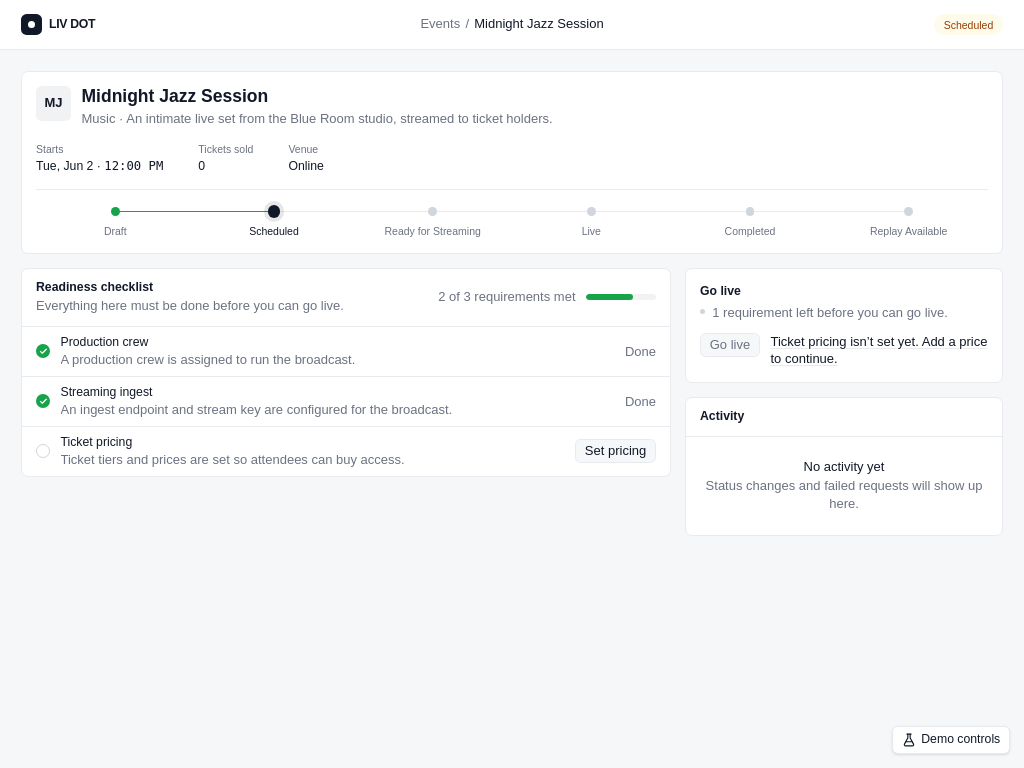
Test: EventDashboard › surfaces a forced failure with a retry that recovers
The width and height of the screenshot is (1024, 768).
Expected: the heading "Midnight Jazz Session" is shown, [82,86,268,106]
Click the button "Demo controls" at (951, 740), box [892,726,1010,754]
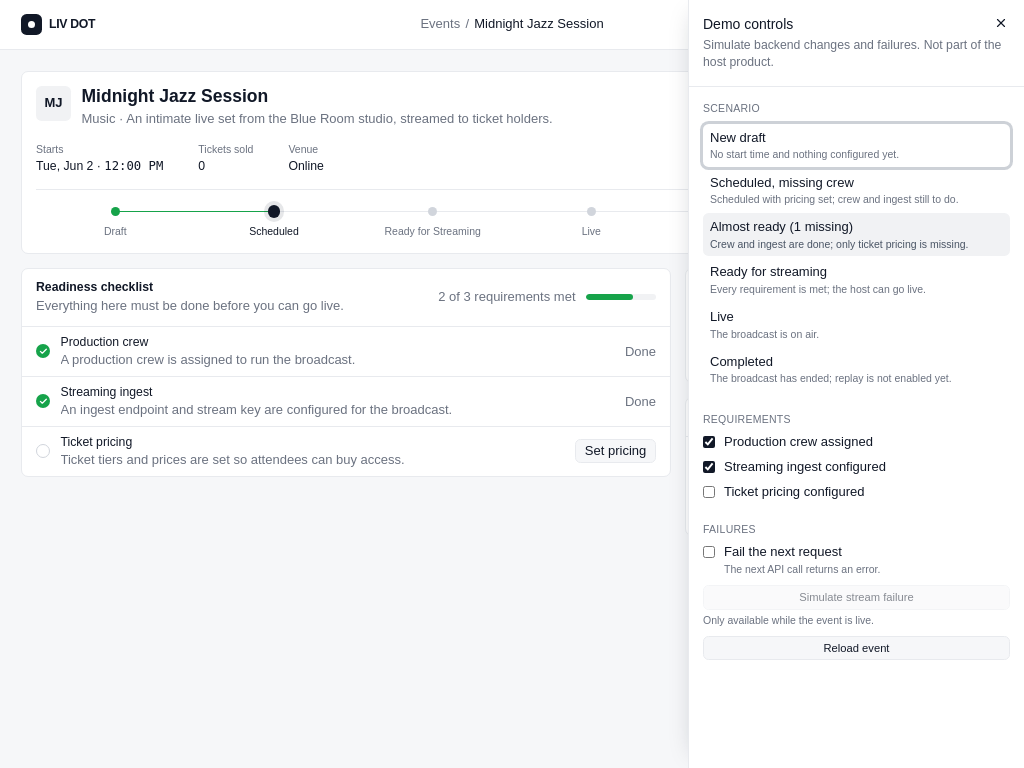
Click the switch labelled "Fail the next request The next API call returns an error." at (709, 552), box [703,546,715,558]
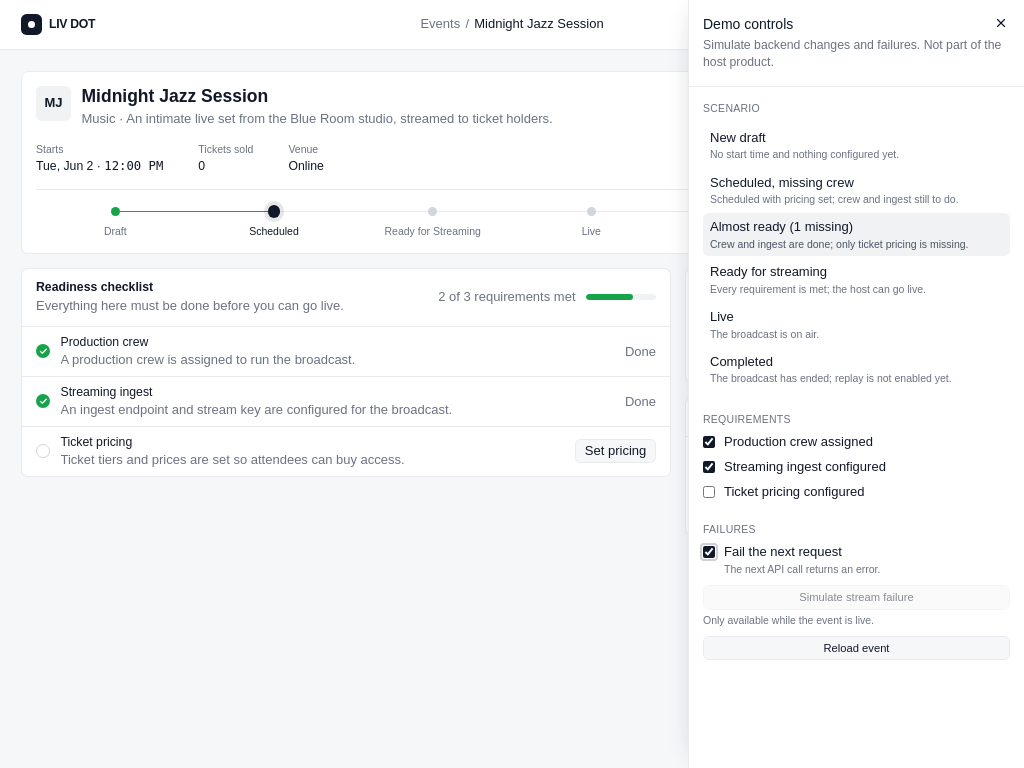
Click the button "Set pricing" at (616, 451), box [575,439,656,463]
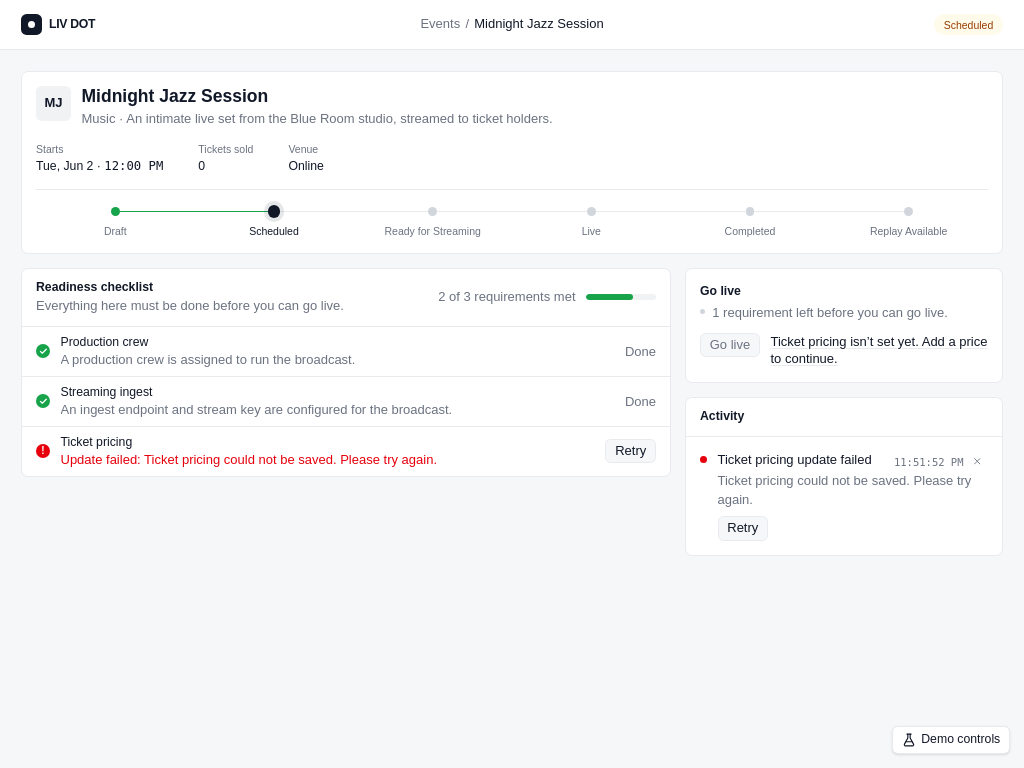
Expected: the message shows "Ticket pricing update failed", [718,452,872,467]
Click the button "Retry" below "11:51:52 PM" at (743, 529), box [718,516,768,541]
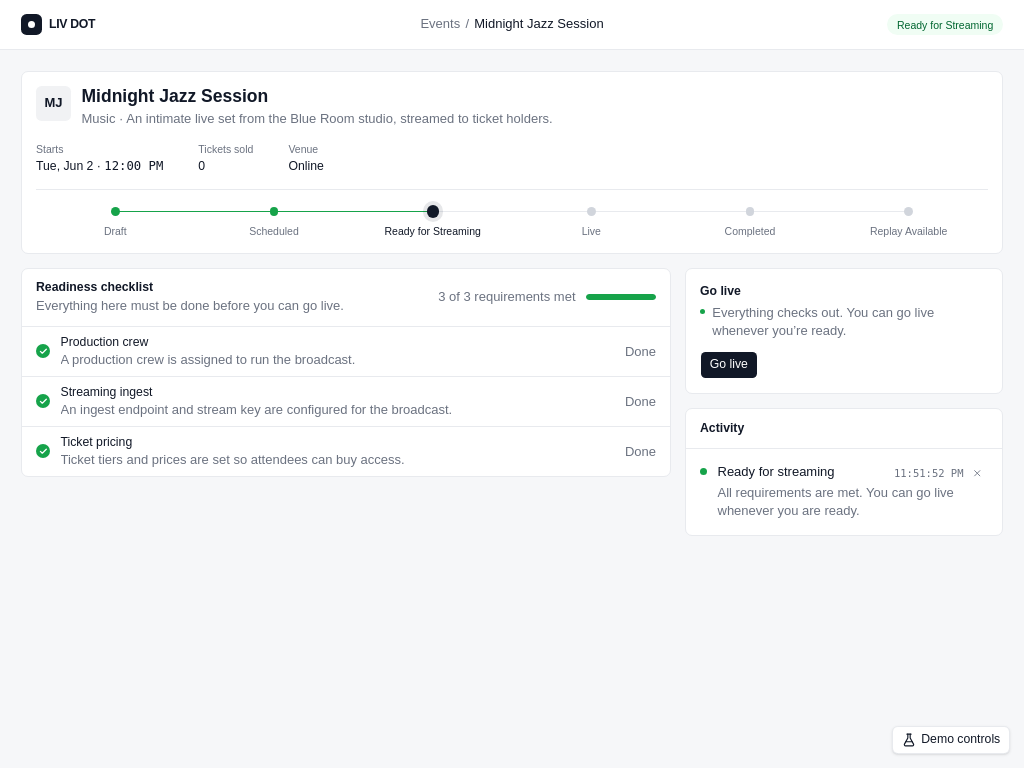
Expected: the text "Ready for streaming" is shown, [718,463,835,481]
